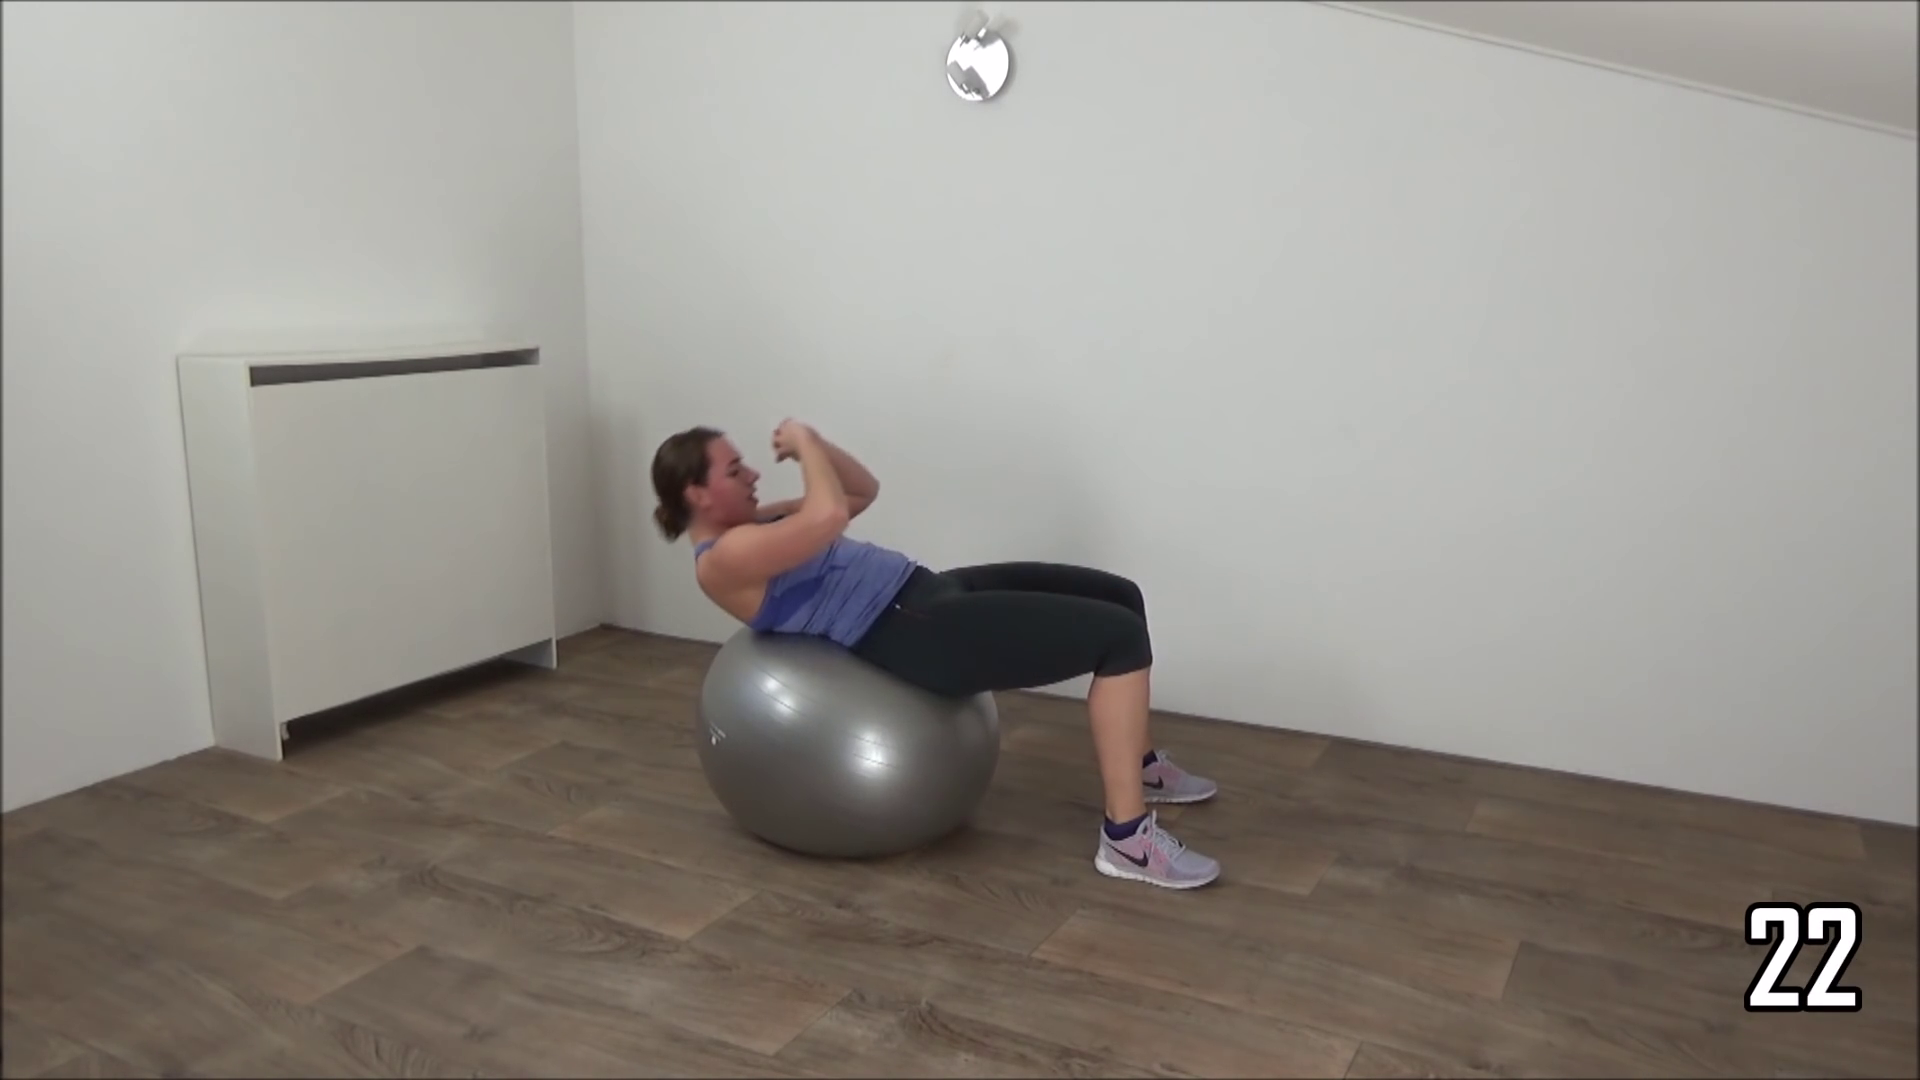yogaball: (687, 615, 1011, 865)
